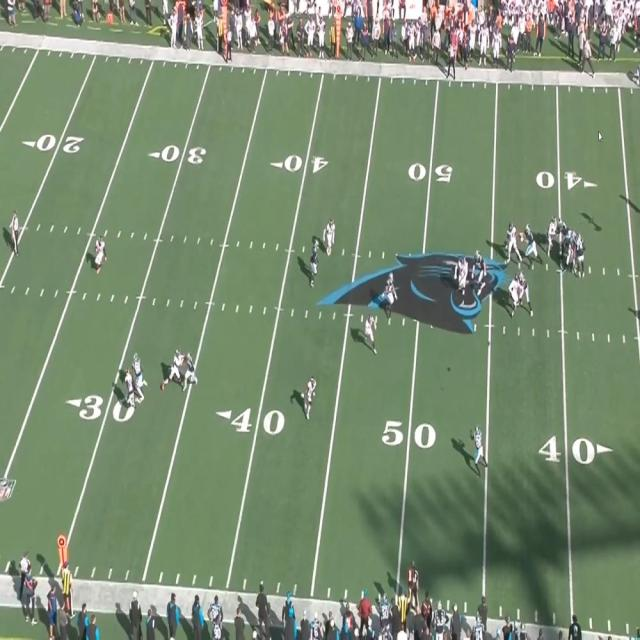db: (170, 348, 182, 389), (304, 379, 316, 419), (124, 367, 135, 409), (95, 237, 106, 272), (326, 219, 334, 257)
lb: (457, 257, 468, 302), (364, 314, 376, 352)
skill: (472, 426, 484, 470), (133, 356, 144, 402), (383, 273, 397, 309), (184, 352, 196, 388), (310, 240, 319, 285)
